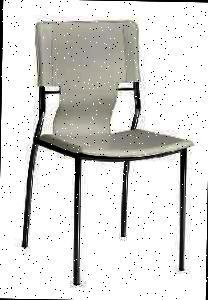Silla: (27, 24, 193, 288)
